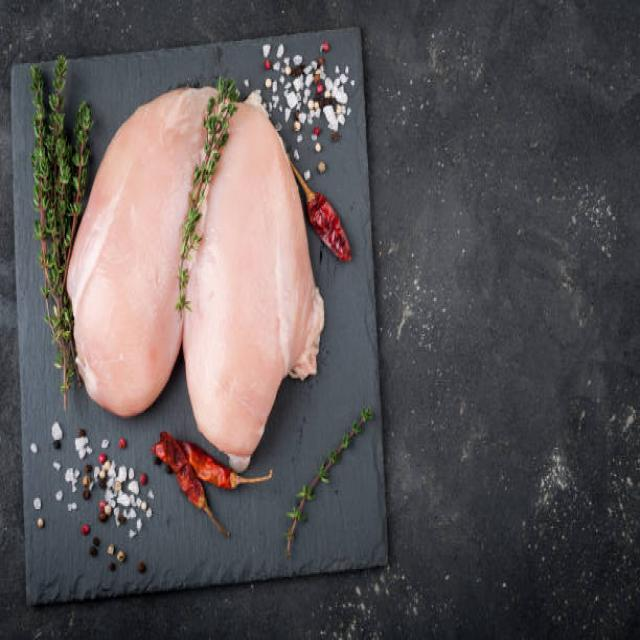chicken thigh: (69, 73, 329, 465)
